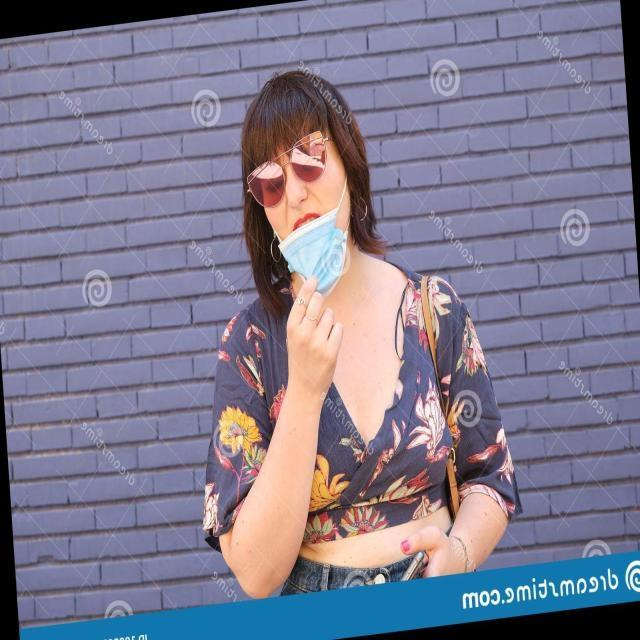hairnet: (251, 104, 353, 298)
